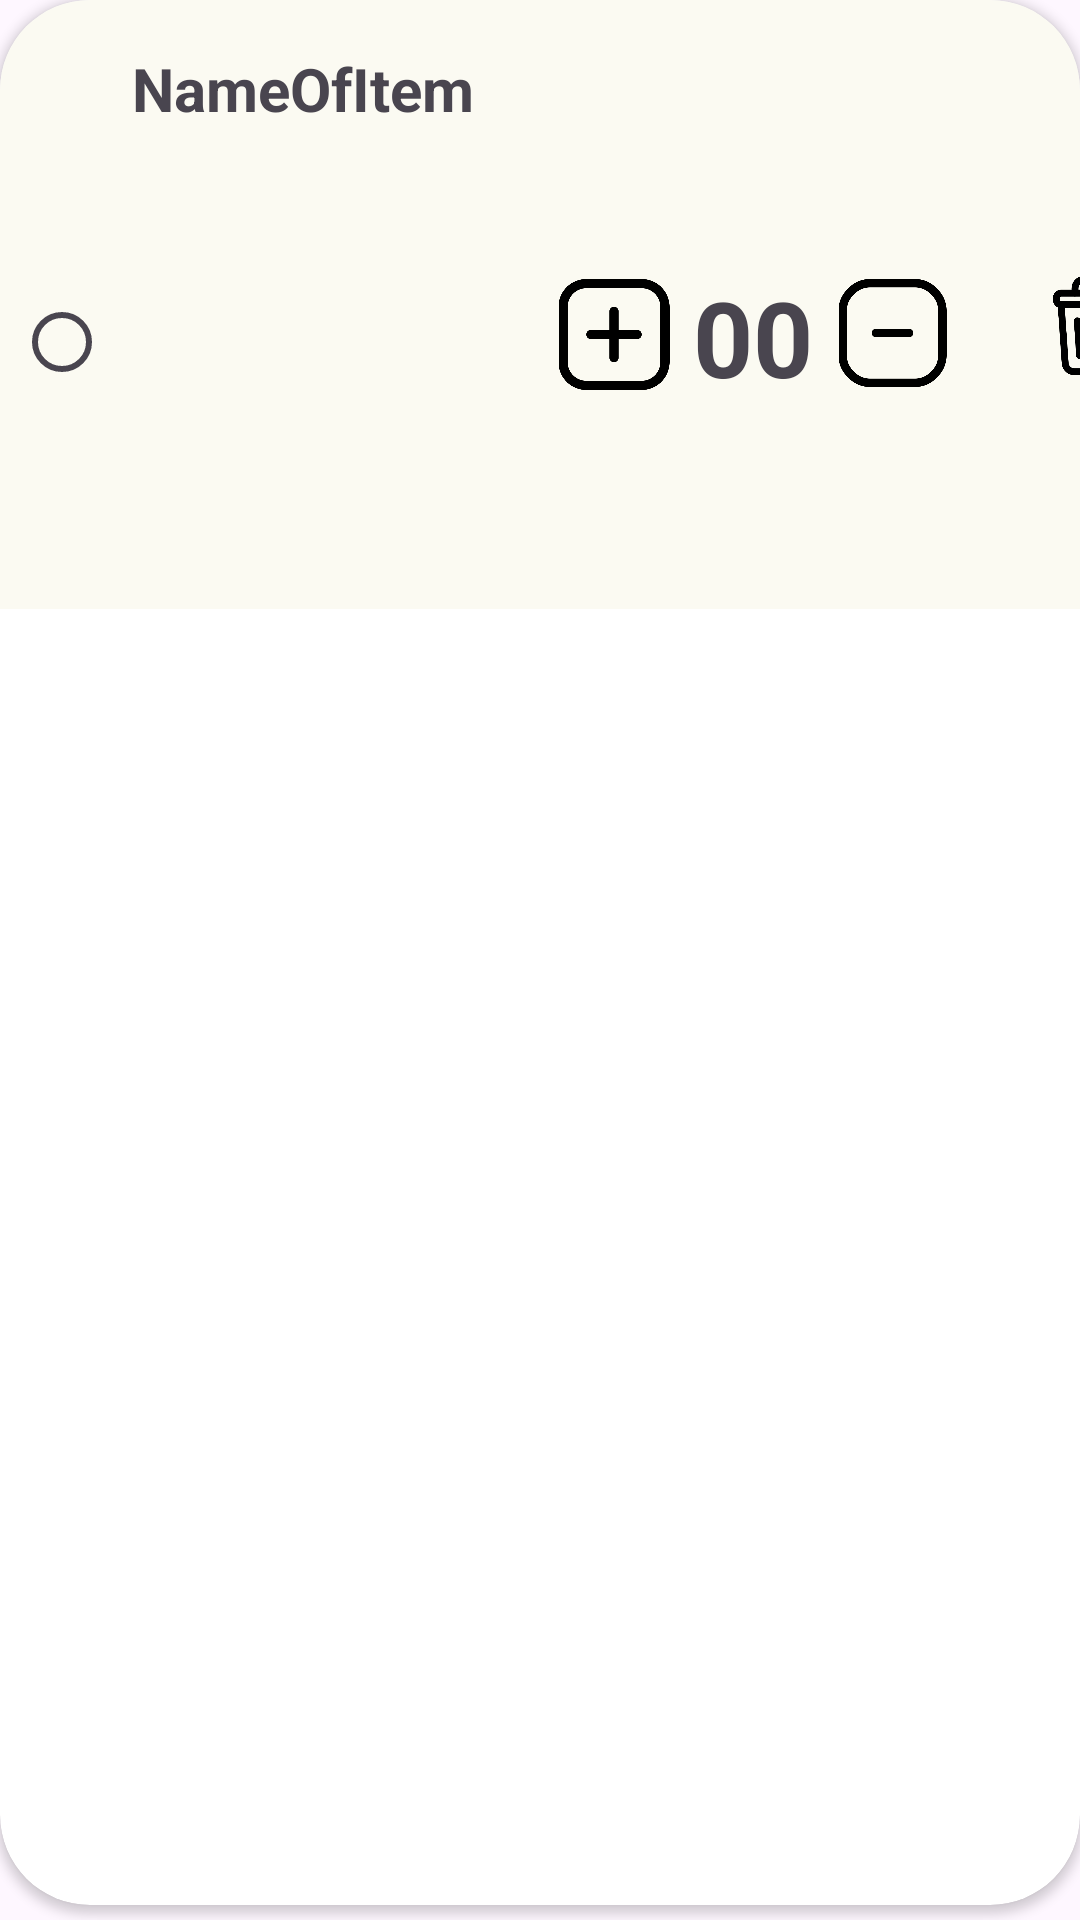

Icon bounding boxes for this 1080px×1920px phone screenshot, format Rect(x1, y1, x2, y2):
minus: Rect(839, 279, 947, 387)
plus: Rect(559, 279, 670, 390)
